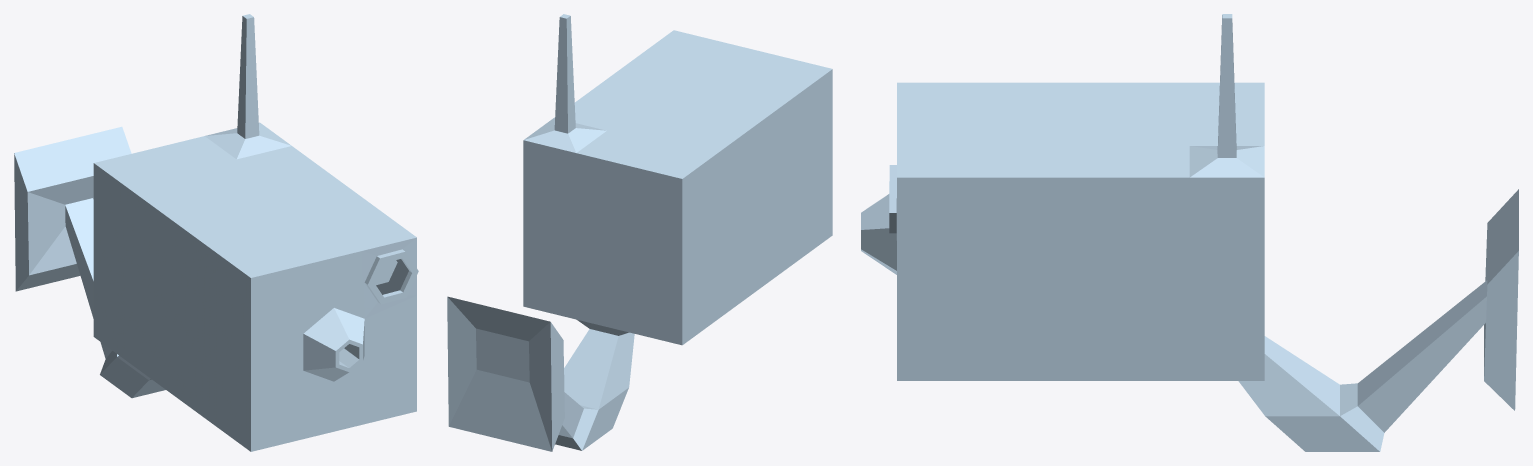
The model's file is Cam.fbx.
3 renders of one model, left to right at view 1: azimuth 30°, elevation 25°; view 2: azimuth 150°, elevation 25°; view 3: azimuth 270°, elevation 25°, orthographic. The views are drawn at different scales.
Parts seen in each view (by area): view 1: Cube; view 2: Cube; view 3: Cube.
Boxes of the visible parts, box(x1,y1,x2,y2) form: Cube: box(14, 14, 418, 451); Cube: box(447, 14, 832, 451); Cube: box(861, 14, 1518, 451).
Bounding box in the file's own units: 200 × 444 × 586.
